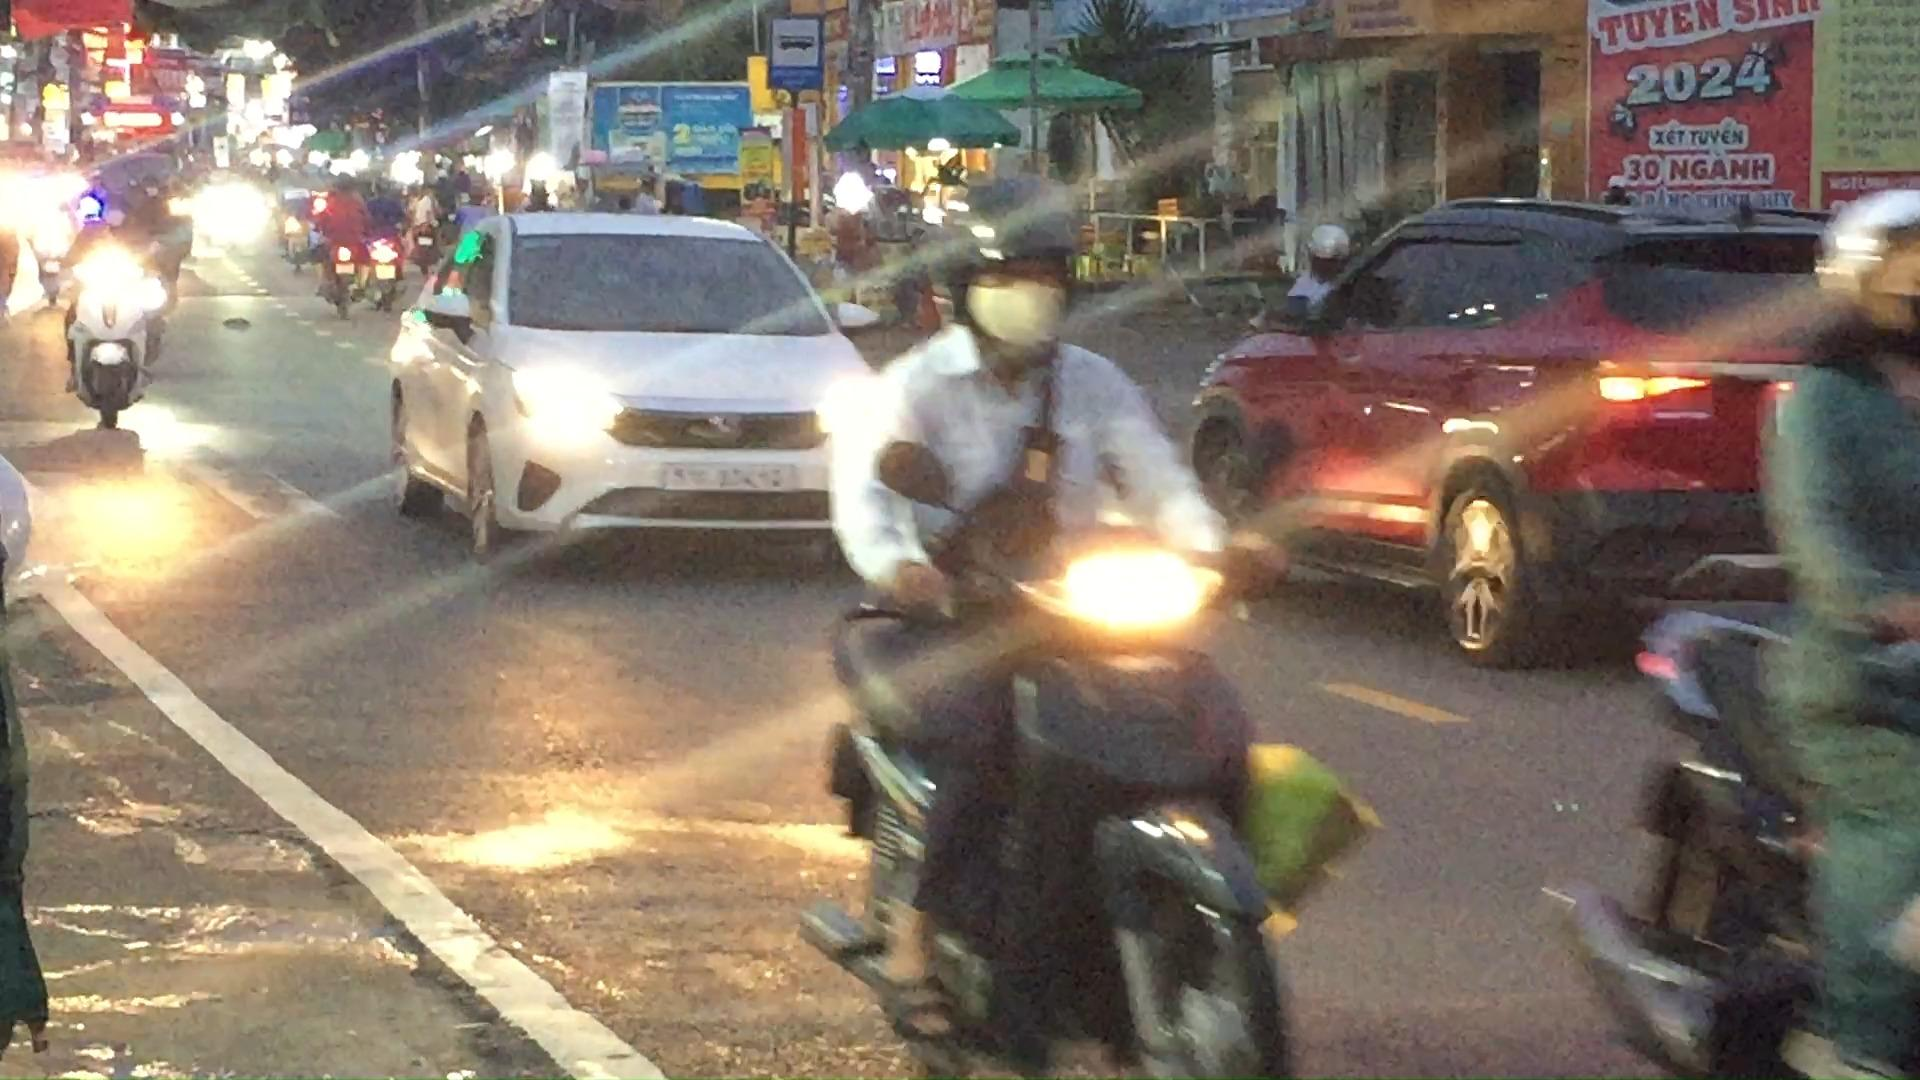bien_so: (656, 458, 802, 496)
